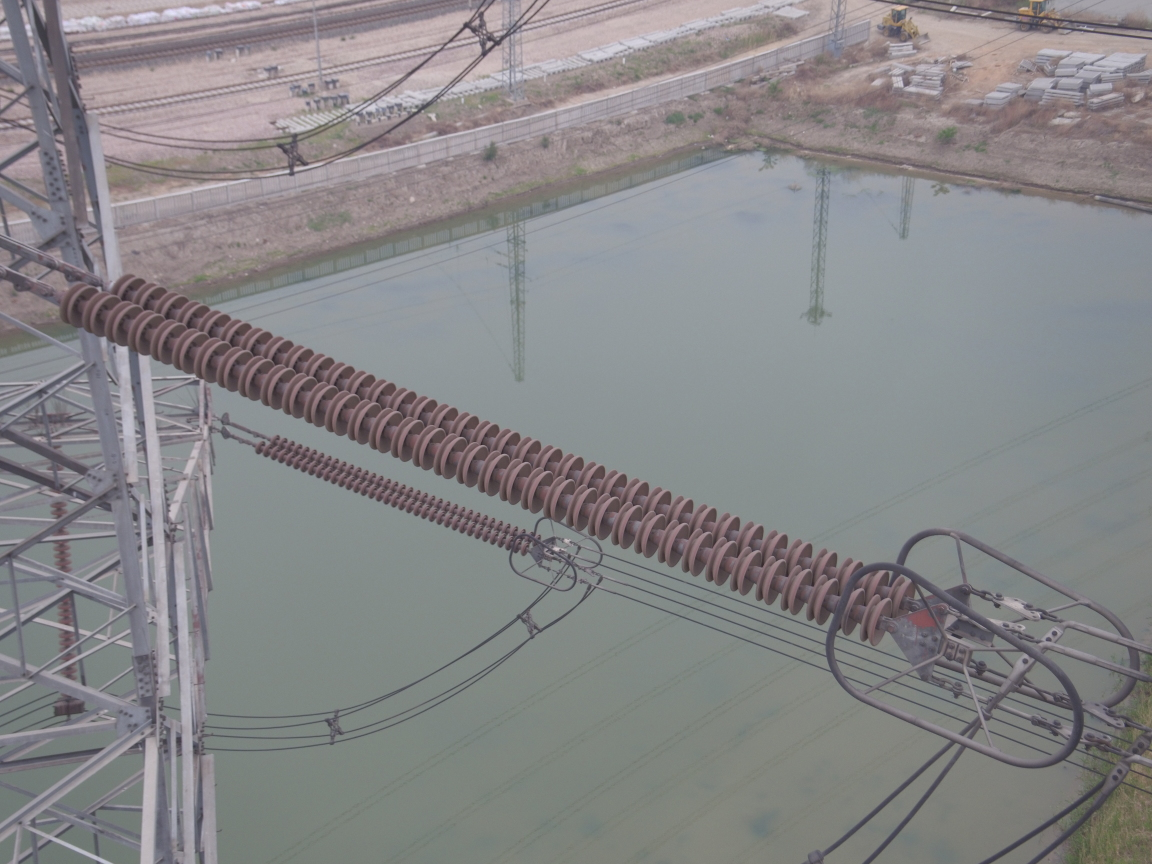insulator: (29, 263, 930, 653), (231, 430, 544, 557)
